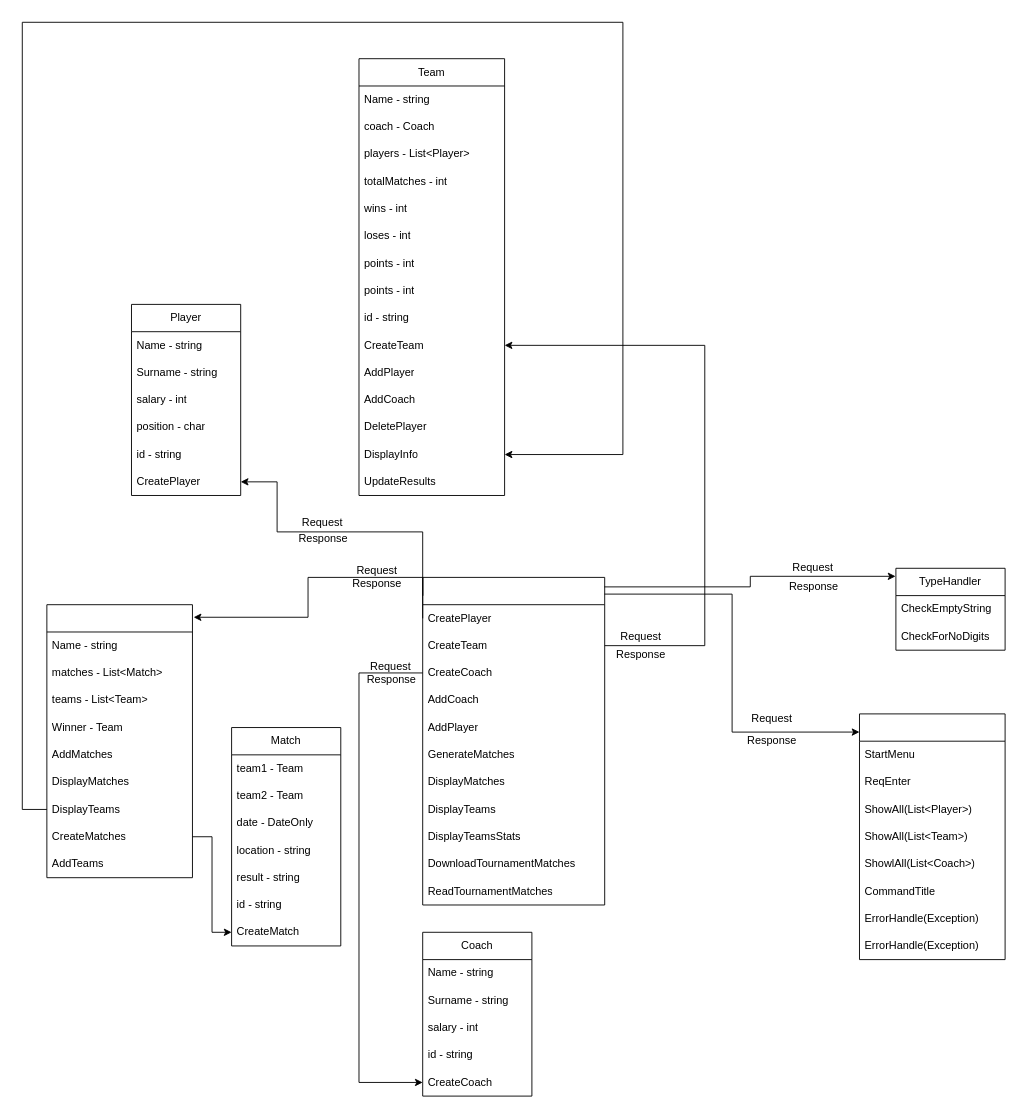
Image size: 1021x1112. Some labels were removed from this diagram. Here are the shapes that lost their labels. From the top down, the box of each, then its label:
(46, 604, 192, 878): Tournament
(422, 576, 605, 905): Controller
(859, 713, 1005, 960): UIController
